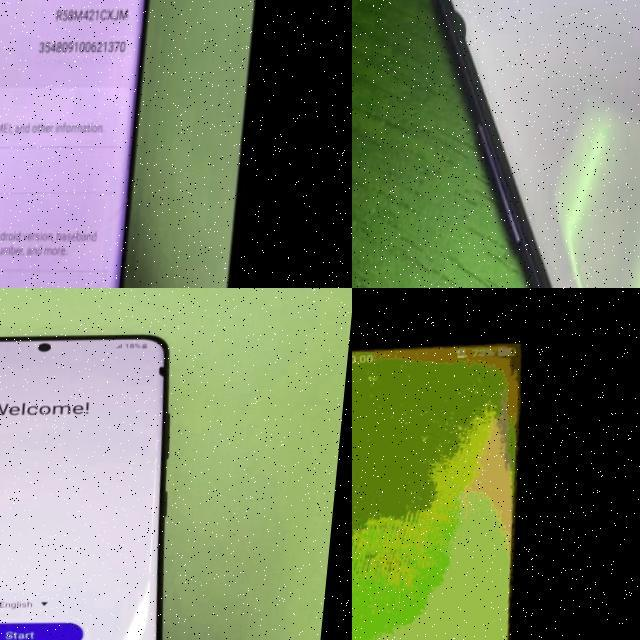dead pixel: (431, 0, 500, 69), (128, 352, 197, 391)
screen crack: (0, 197, 134, 288)
